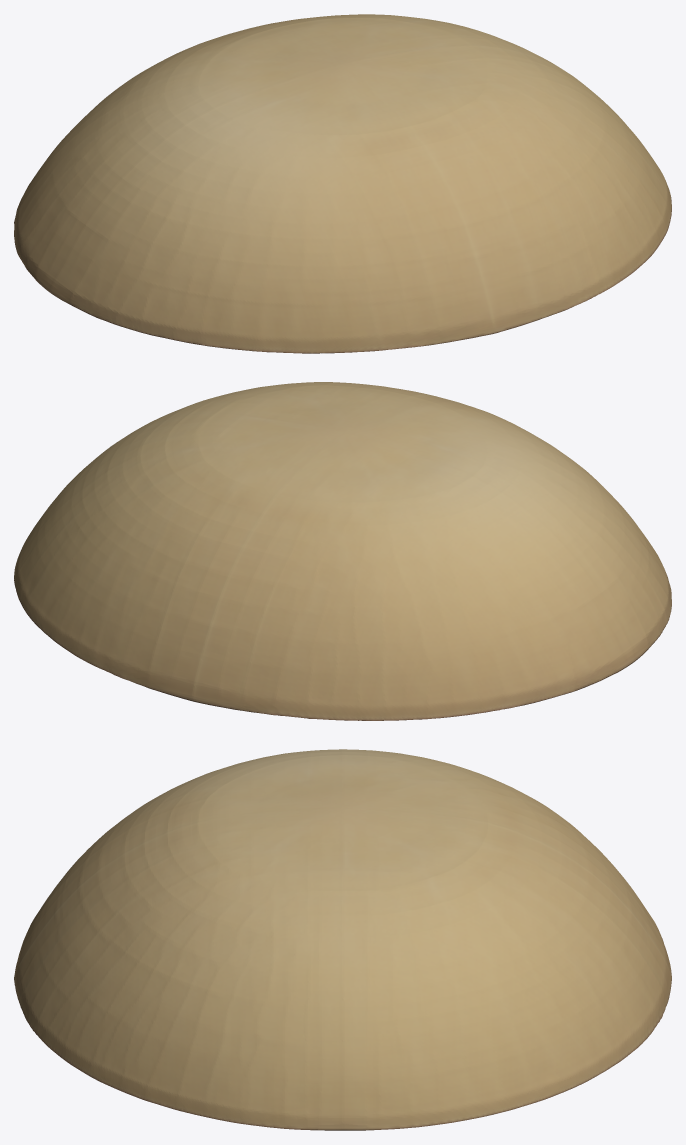
3 renders of one model, top to bottom at view 1: azimuth 30°, elevation 25°; view 2: azimuth 150°, elevation 25°; view 3: azimuth 270°, elevation 25°, orthographic. The views are drawn at different scales.
Parts seen in each view (by area): view 1: world; view 2: world; view 3: world.
Part boxes in pixels (x1=…): world: x1=14, y1=14, x2=671, y2=353; world: x1=14, y1=382, x2=671, y2=720; world: x1=14, y1=749, x2=671, y2=1130.
Size of the model in its own units: 1 by 0.2613 by 0.9049.
